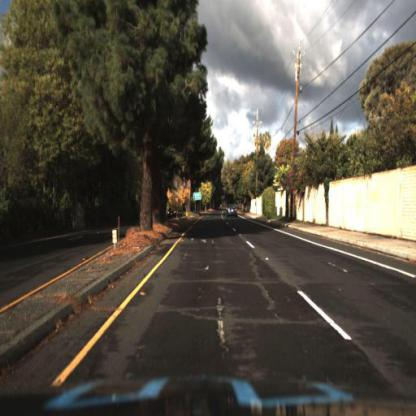car: (228, 205, 239, 219), (168, 207, 179, 220)
